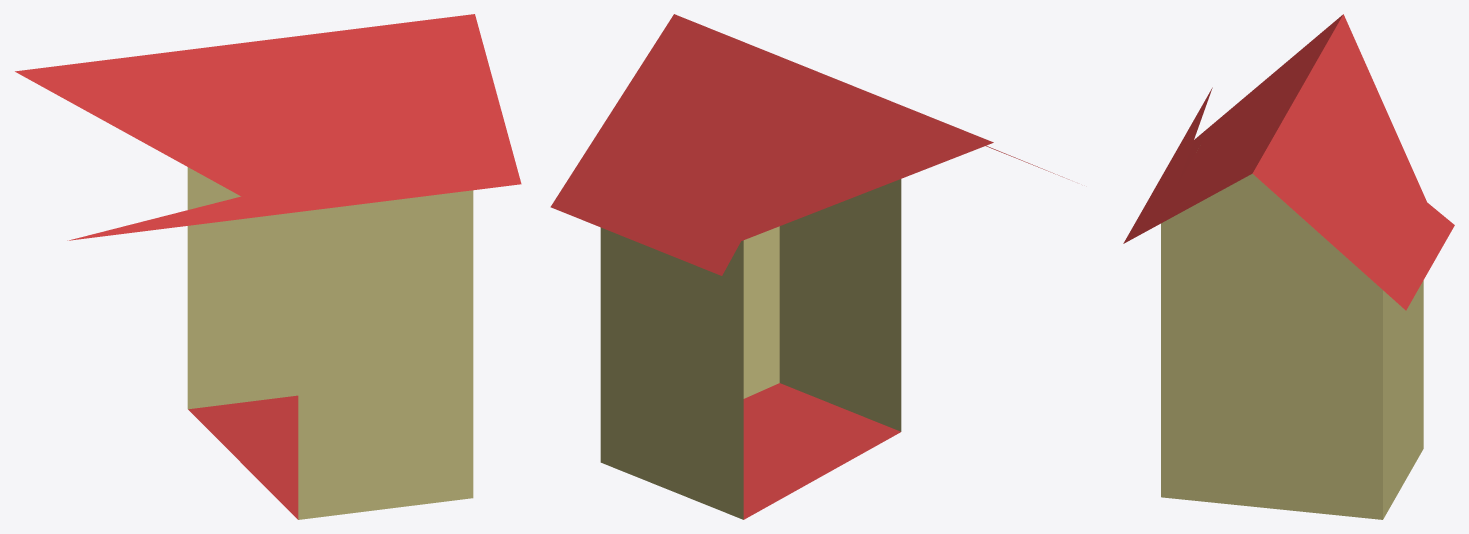
3 renders of one model, left to right at view 1: azimuth 30°, elevation 25°; view 2: azimuth 150°, elevation 25°; view 3: azimuth 270°, elevation 25°, orthographic. The views are drawn at different scales.
Bounding box in the file's own units: 10.56 × 7.94 × 9.15.
